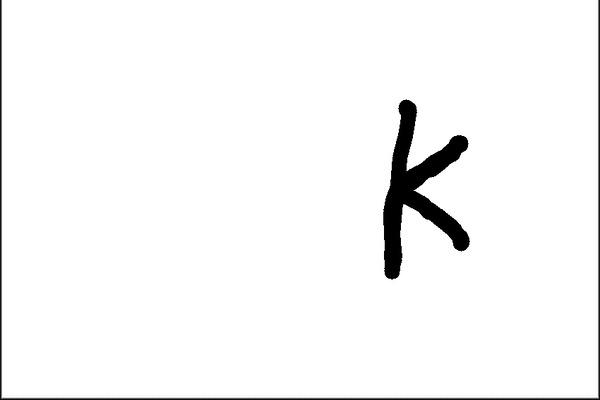K: (375, 94, 476, 285)
